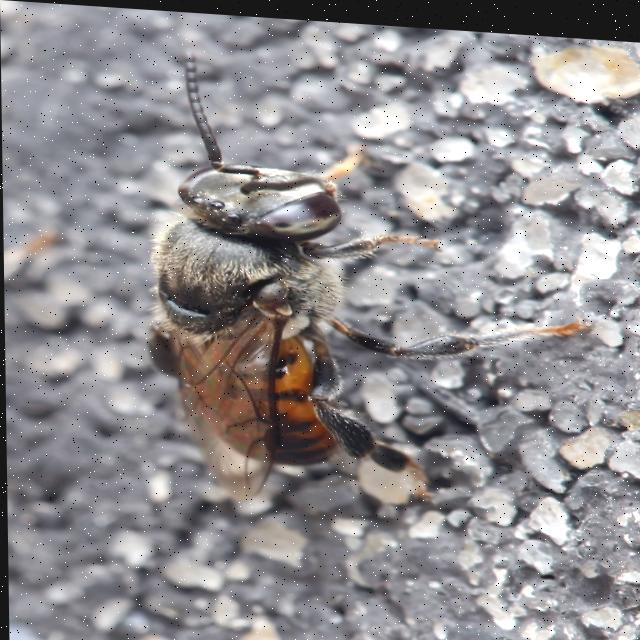Meliponula: (149, 34, 592, 523)
